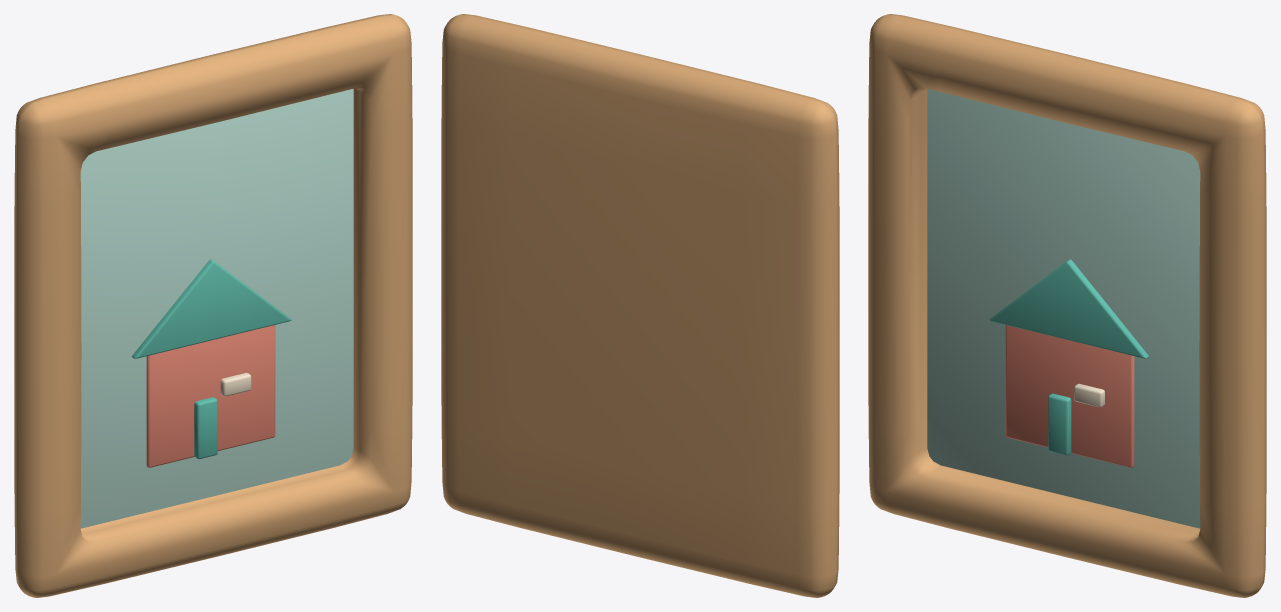
The model's file is picture_frame_c.glb.
3 views of the same model, side by side, from view 1: azimuth 30°, elevation 25°; view 2: azimuth 150°, elevation 25°; view 3: azimuth 330°, elevation 25° (orthographic).
Visible parts, largest first — view 1: body; view 2: body; view 3: body.
Boxes of the visible parts, left/top/right/bottom form: body: left=14, top=14, right=412, bottom=597; body: left=441, top=14, right=839, bottom=597; body: left=868, top=14, right=1266, bottom=597.
Bounding box in the file's own units: 0.38 × 0.46 × 0.0471.
